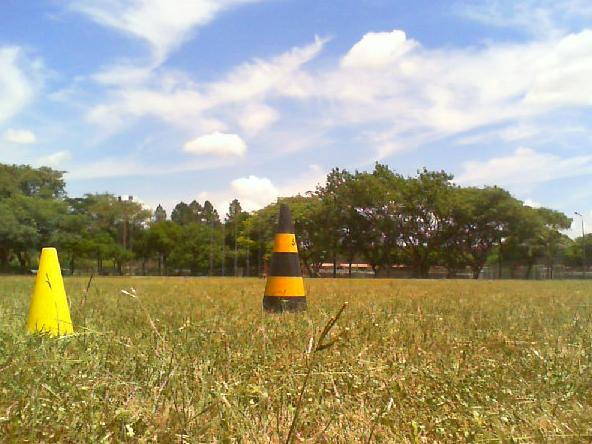0 cone: (262, 204, 307, 314), (25, 248, 74, 335)
